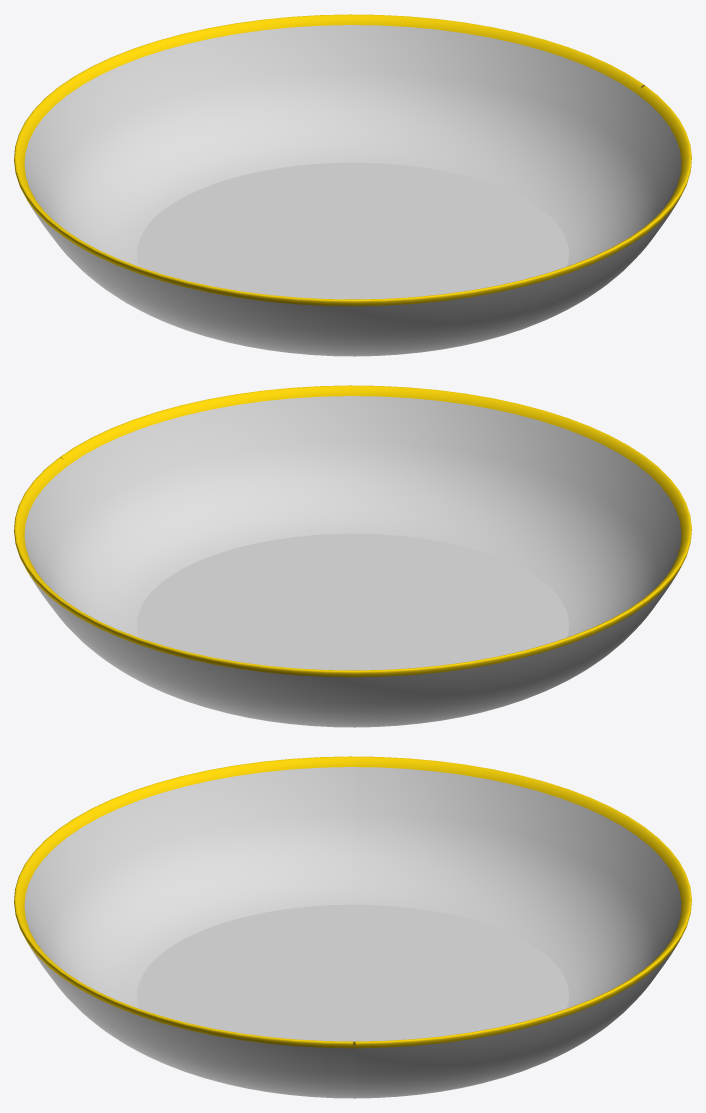
Rendered from BigPlate.dae.
3 renders of one model, top to bottom at view 1: azimuth 30°, elevation 25°; view 2: azimuth 150°, elevation 25°; view 3: azimuth 270°, elevation 25°, orthographic.
Visible parts, largest first — view 1: SketchUp (×2); view 2: SketchUp (×2); view 3: SketchUp (×2).
Part boxes in pixels (x1,y1,x2,y2): SketchUp (×2): (14,14,691,356); SketchUp (×2): (14,385,691,727); SketchUp (×2): (14,756,691,1098).
Bounding box in the file's own units: 12.35 × 12.35 × 2.1.
